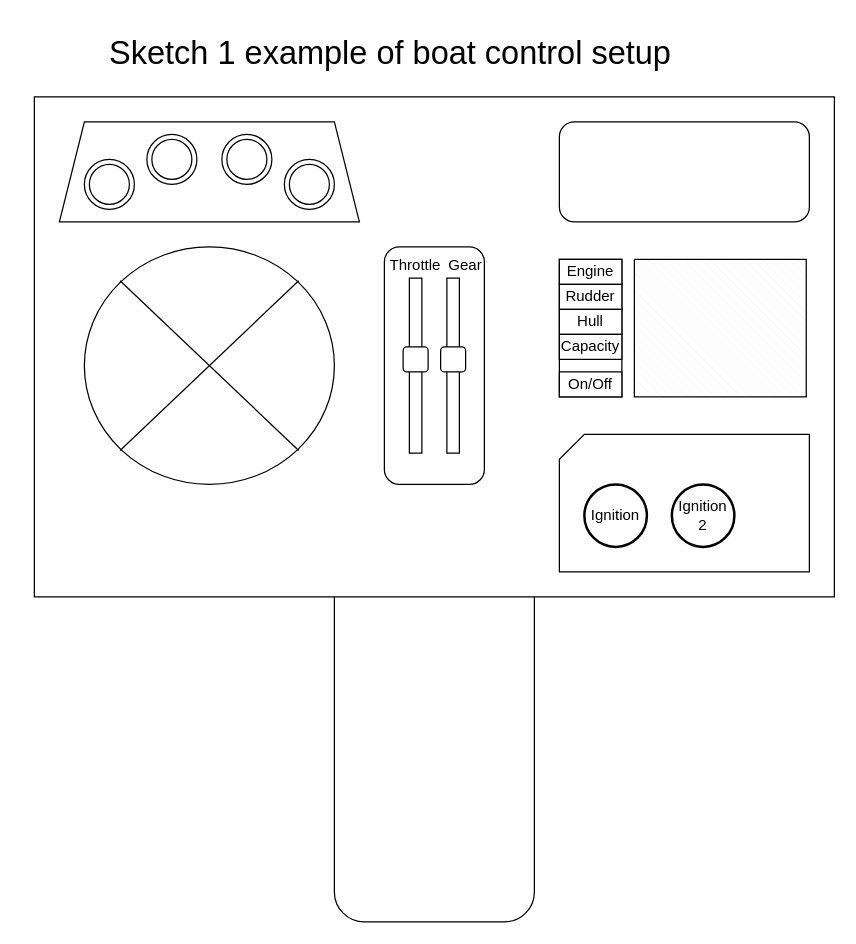
This 856x944 diagram has some shape labels left out. Each missing label, with the box of its shape:
Computer: (633, 258, 806, 397)
Dashboard: (58, 121, 359, 222)
Radio: (558, 121, 809, 222)
Steering Wheel: (83, 246, 334, 484)
